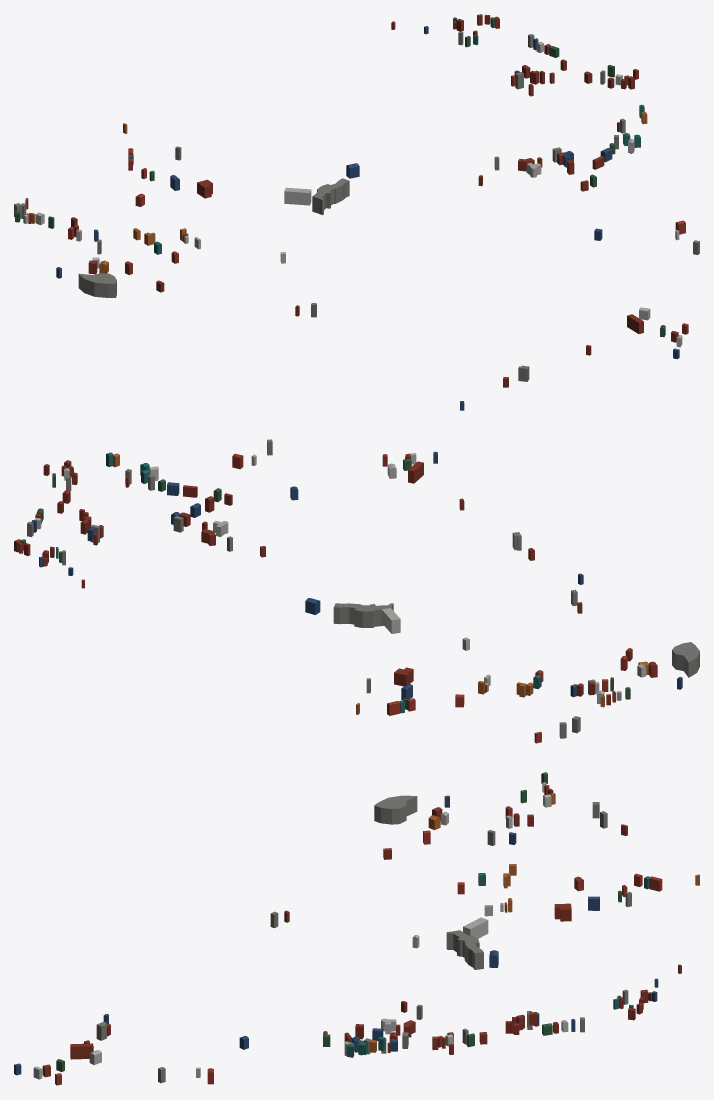
Rendered from near-15-27357-14866.0f26f817.glb.
The picture shows the model from 3 angles, top to bottom: view 1: azimuth 30°, elevation 25°; view 2: azimuth 150°, elevation 25°; view 3: azimuth 270°, elevation 25°; orthographic projection. The views are drawn at different scales.
Bounding box in the file's own units: 1180 × 294 × 1101.
